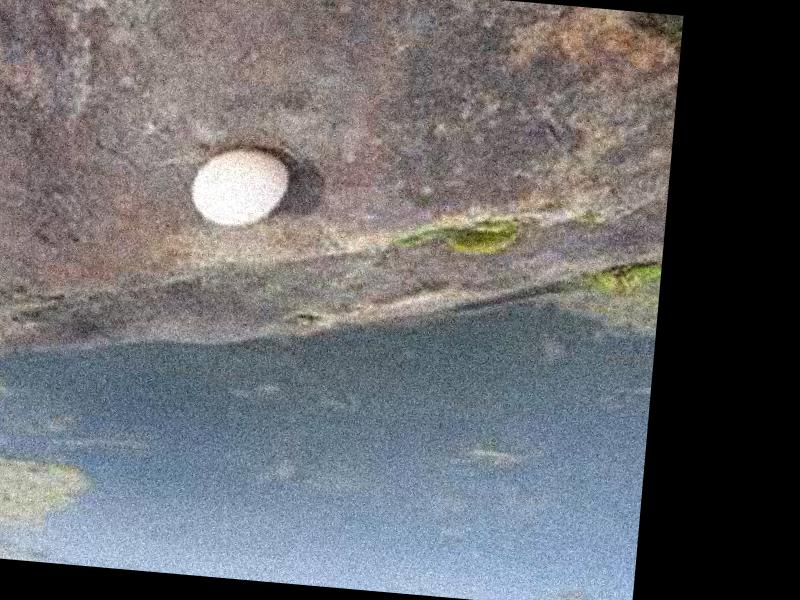Eggs: (184, 146, 289, 231)
